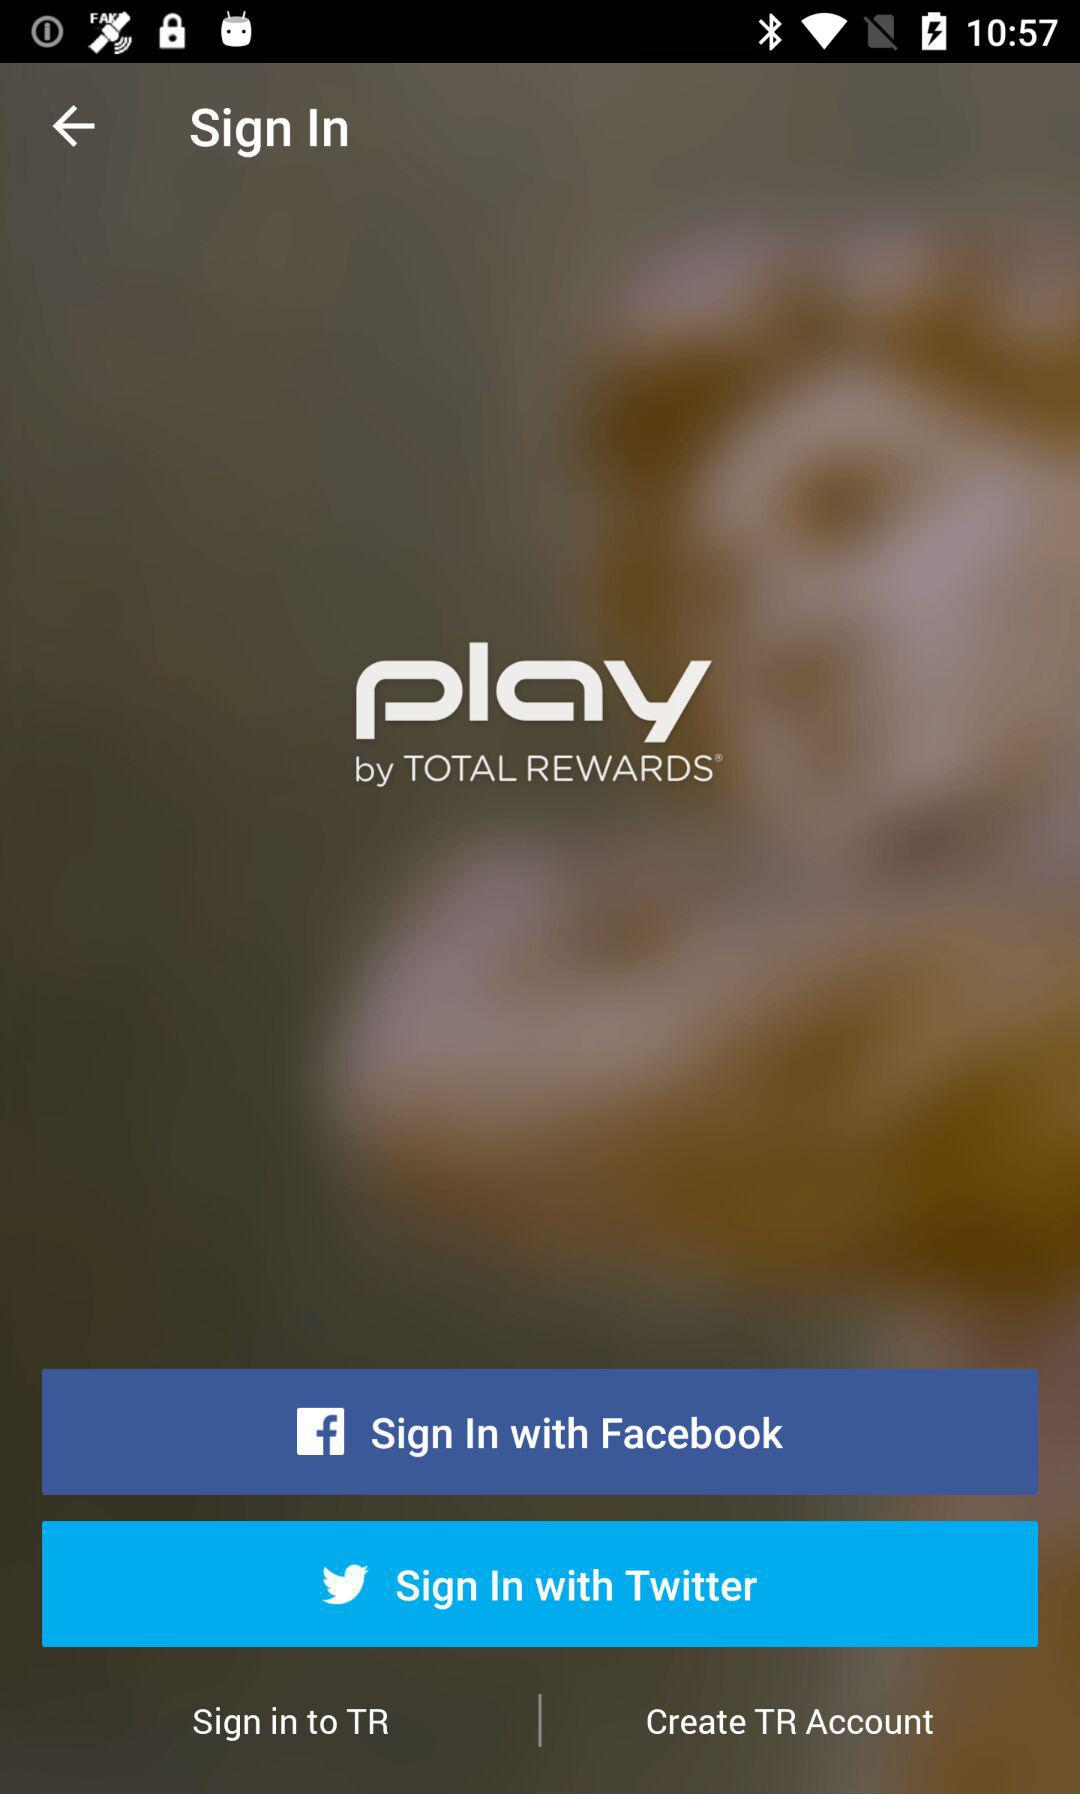Icon: (53, 105, 96, 149)
Image: (355, 639, 725, 789)
Text: (190, 108, 348, 160), (646, 1708, 934, 1735), (192, 1706, 389, 1743)
TextButton: (42, 1520, 1039, 1649), (42, 1369, 1038, 1495)
UpperTaskBar: (1, 1, 1080, 64)
